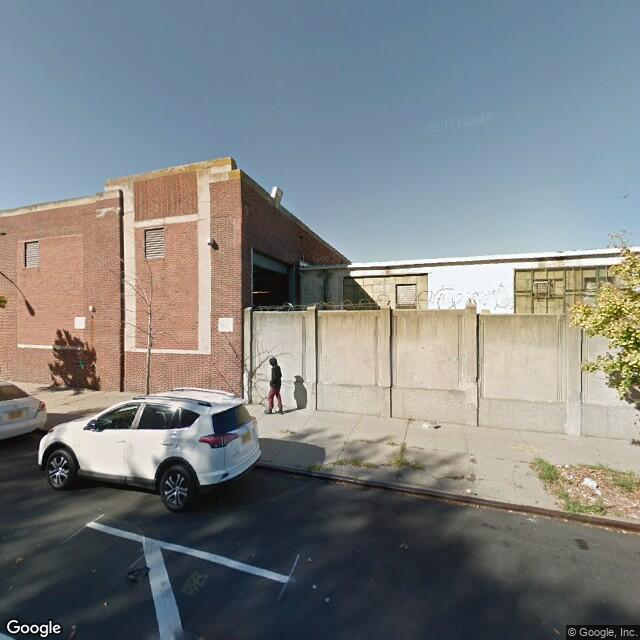litter: (122, 566, 150, 585), (582, 478, 599, 490), (395, 542, 412, 551), (305, 553, 314, 566), (465, 487, 475, 494), (14, 556, 23, 562), (100, 601, 109, 606), (434, 424, 442, 429), (322, 596, 328, 602), (309, 582, 316, 585)
